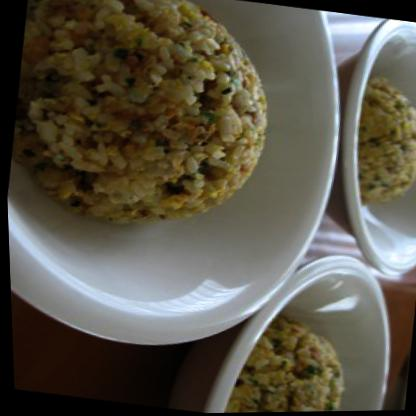fried rice: (2, 0, 282, 227), (217, 308, 361, 413), (342, 72, 415, 211)
